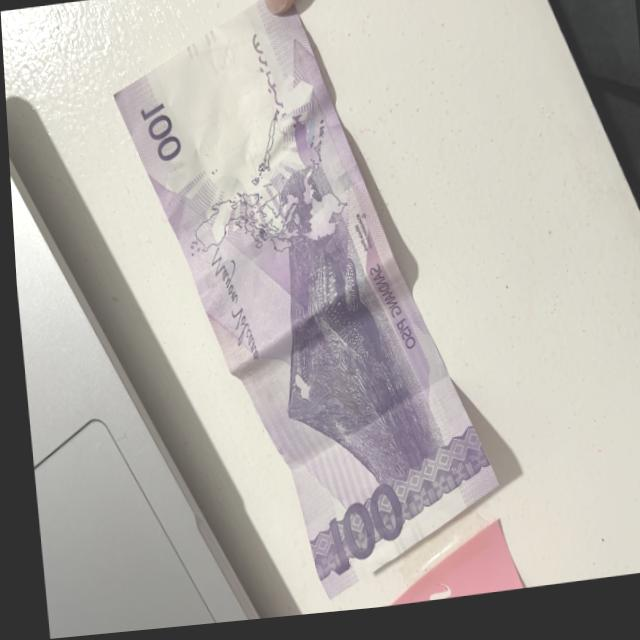100_whale: (303, 234, 381, 377)
100_whale_watermark: (283, 115, 317, 182)
value_watermark: (207, 48, 235, 81)
